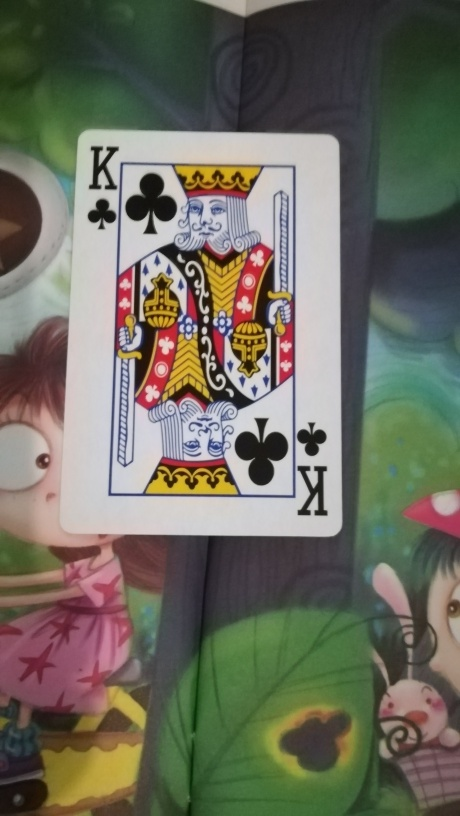mh k: (59, 126, 344, 541)
